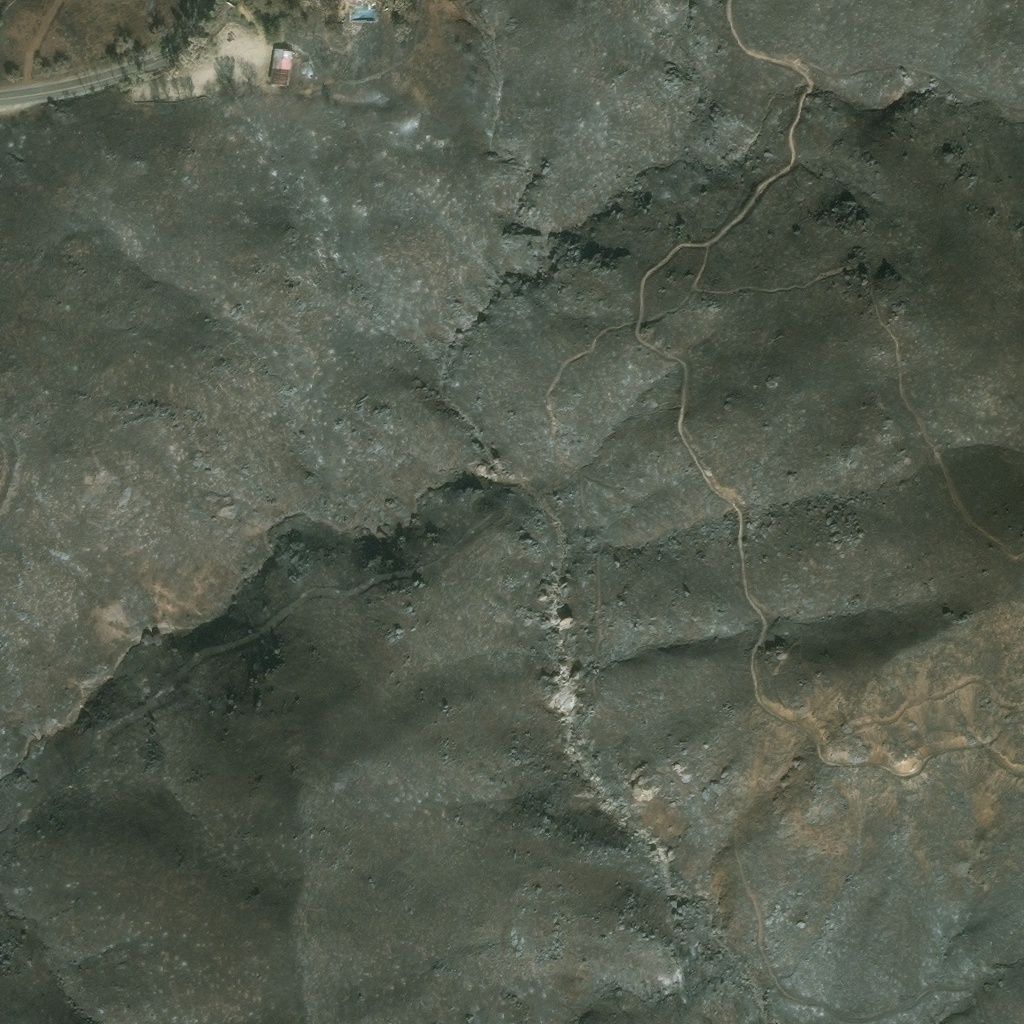1 minor-damage: (268, 47, 292, 87)
3 destroyed: (350, 0, 372, 4)
